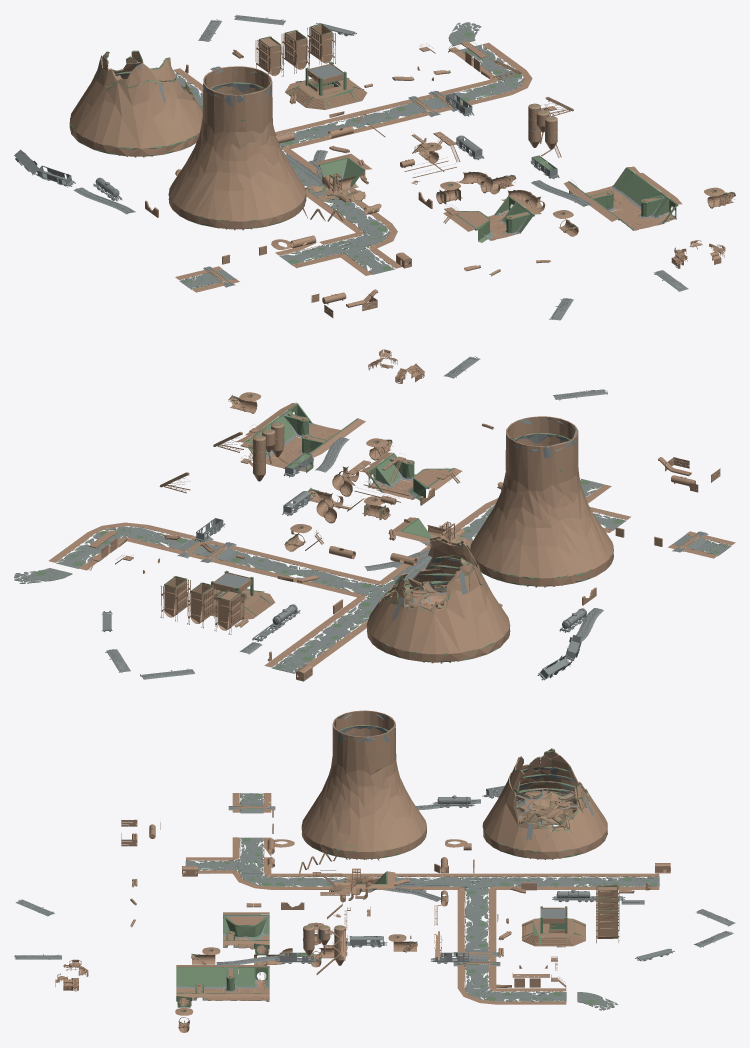
The model's file is powerplant_1-mid.glb.
3 renders of one model, top to bottom at view 1: azimuth 30°, elevation 25°; view 2: azimuth 150°, elevation 25°; view 3: azimuth 270°, elevation 25°, orthographic. The views are drawn at different scales.
Visible parts, largest first — view 1: pipeline_200x600_LOD0, road_9x15_railway_LOD0, pipeline_300x600_end_LOD0; view 2: pipeline_200x600_LOD0, road_9x15_railway_LOD0, pipeline_300x600_end_LOD0; view 3: pipeline_200x600_LOD0, road_9x15_railway_LOD0, pipeline_300x600_end_LOD0.
Part boxes in pixels (x1=…): pipeline_200x600_LOD0: x1=69, y1=24, x2=735, y2=318; road_9x15_railway_LOD0: x1=14, y1=15, x2=688, y2=320; pipeline_300x600_end_LOD0: x1=70, y1=22, x2=735, y2=288; pipeline_200x600_LOD0: x1=49, y1=349, x2=735, y2=681; road_9x15_railway_LOD0: x1=14, y1=356, x2=731, y2=680; pipeline_300x600_end_LOD0: x1=14, y1=394, x2=730, y2=673; pipeline_200x600_LOD0: x1=55, y1=710, x2=670, y2=1032; road_9x15_railway_LOD0: x1=14, y1=710, x2=735, y2=1010; pipeline_300x600_end_LOD0: x1=131, y1=725, x2=659, y2=1027.
Size of the model in its own units: 210 by 58.2 by 279.
